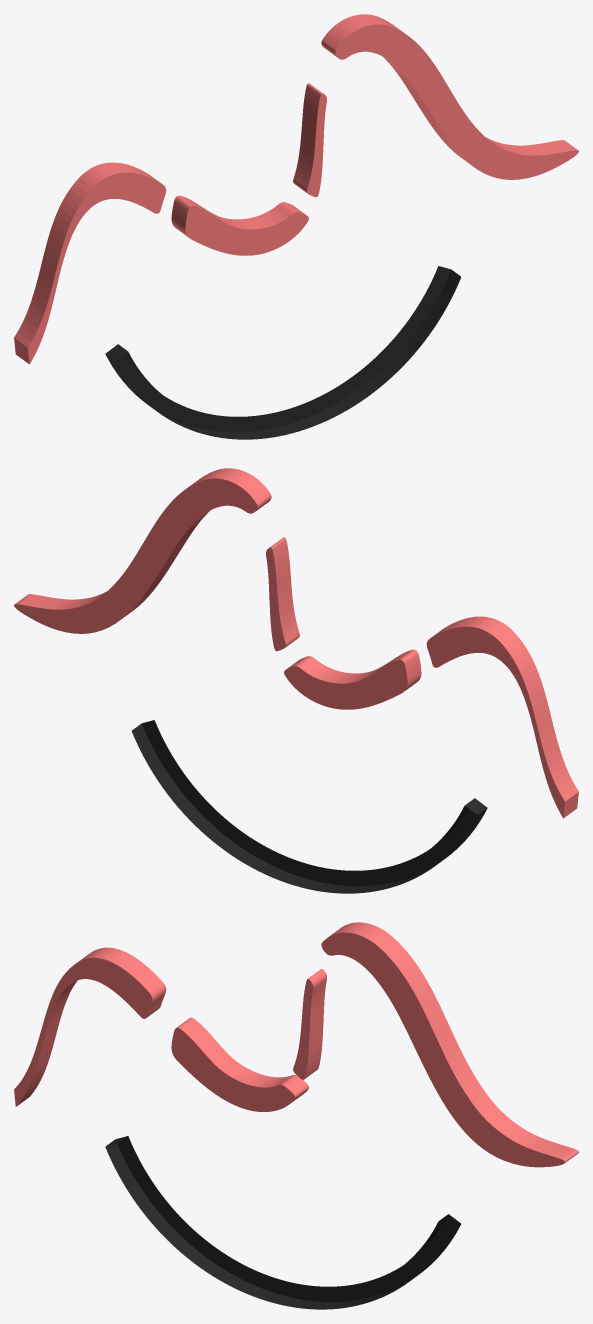
Rendered from add_sweep_black.glb.
3 views of the same model, one above another, from view 1: azimuth 30°, elevation 25°; view 2: azimuth 150°, elevation 25°; view 3: azimuth 330°, elevation 25° (orthographic).
Visible parts, largest first — view 1: shape_03, virtual_sweep_black, shape_00, shape_01, shape_02; view 2: shape_03, virtual_sweep_black, shape_00, shape_01, shape_02; view 3: shape_03, virtual_sweep_black, shape_00, shape_01, shape_02.
Boxes of the visible parts, x1,y1,x2,y2 form: shape_03: (321, 14, 578, 179); virtual_sweep_black: (105, 266, 461, 439); shape_00: (14, 162, 166, 364); shape_01: (171, 195, 308, 255); shape_02: (293, 83, 326, 197); shape_03: (14, 468, 271, 633); virtual_sweep_black: (131, 720, 487, 893); shape_00: (426, 616, 578, 818); shape_01: (284, 649, 421, 709); shape_02: (266, 537, 299, 651); shape_03: (321, 922, 578, 1167); virtual_sweep_black: (105, 1136, 460, 1309); shape_00: (14, 947, 166, 1106); shape_01: (171, 1017, 308, 1111); shape_02: (293, 969, 326, 1079).
Size of the model in its own units: 6.9 by 4.67 by 0.3.
